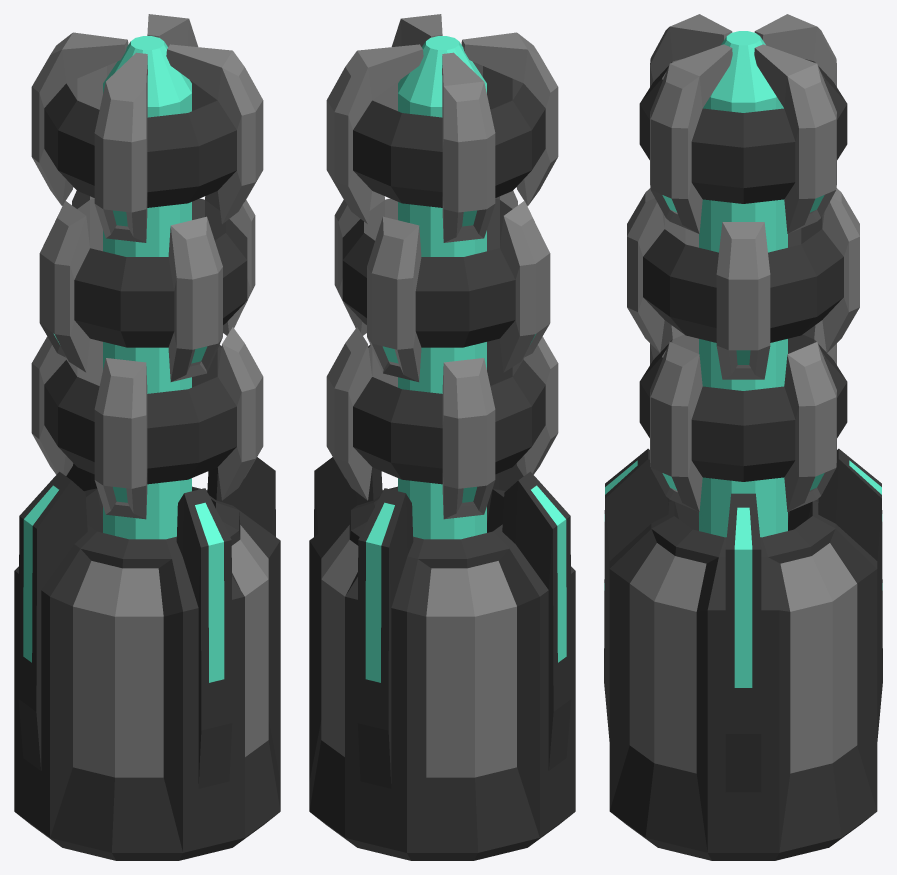
The model's file is swordHUGE.obj.
The picture shows the model from 3 angles, left to right: view 1: azimuth 30°, elevation 25°; view 2: azimuth 150°, elevation 25°; view 3: azimuth 270°, elevation 25°; orthographic projection.
Visible parts, largest first — view 1: under, frame, crystal; view 2: under, frame, crystal; view 3: under, frame, crystal.
Boxes of the visible parts, x1,y1,x2,y2 form: under: [14, 83, 280, 860]; frame: [31, 14, 268, 777]; crystal: [23, 36, 224, 682]; under: [309, 83, 575, 860]; frame: [321, 14, 558, 777]; crystal: [365, 36, 566, 682]; under: [604, 62, 882, 860]; frame: [627, 14, 859, 773]; crystal: [604, 31, 882, 687].
Bounding box in the file's own units: 3.12 × 9.56 × 3.12.
